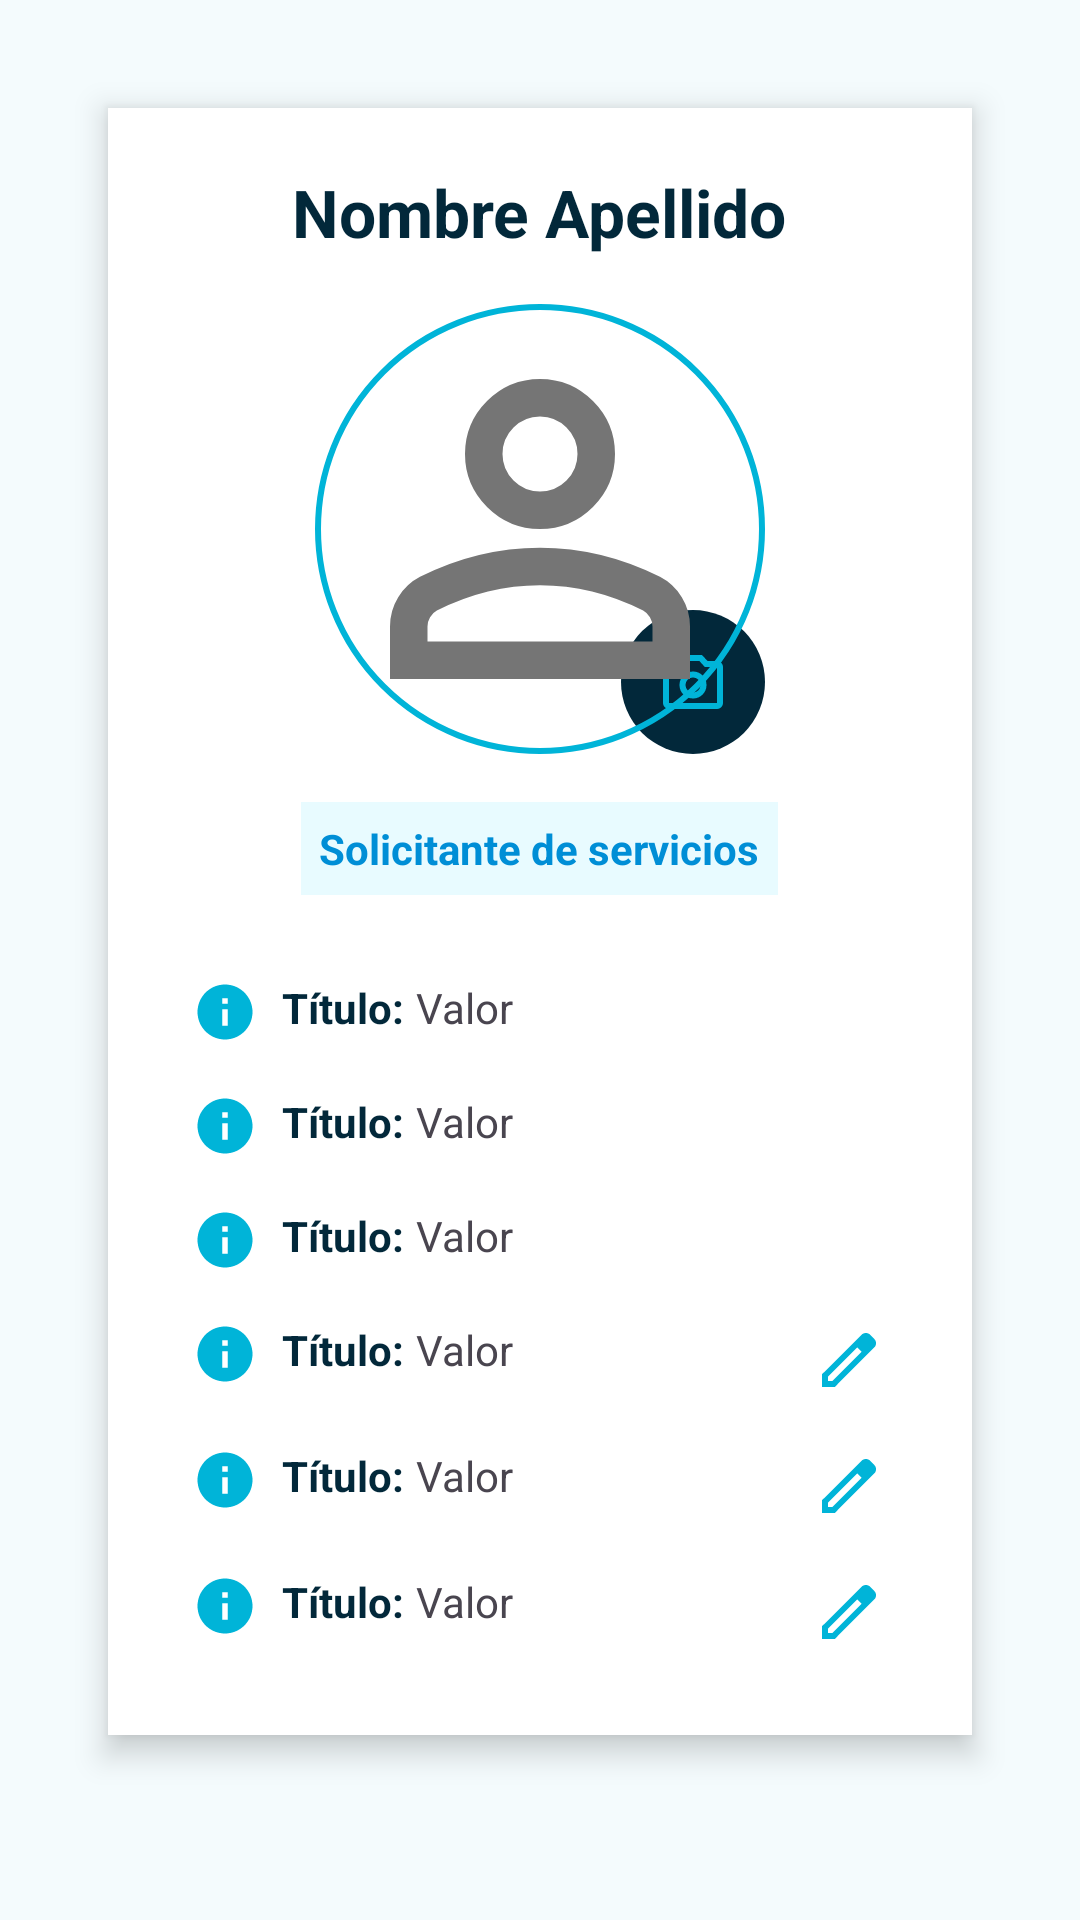

Named icons in this screenshot (1080w x 1920h) and their bounding boxes, Rect(x1, y1, x2, y2):
edit: Rect(822, 1333, 876, 1387), Rect(822, 1459, 876, 1513), Rect(822, 1585, 876, 1639)
info: Rect(197, 984, 253, 1040), Rect(197, 1098, 253, 1154), Rect(197, 1212, 253, 1268), Rect(197, 1326, 253, 1382), Rect(197, 1452, 253, 1508), Rect(197, 1578, 253, 1634)
